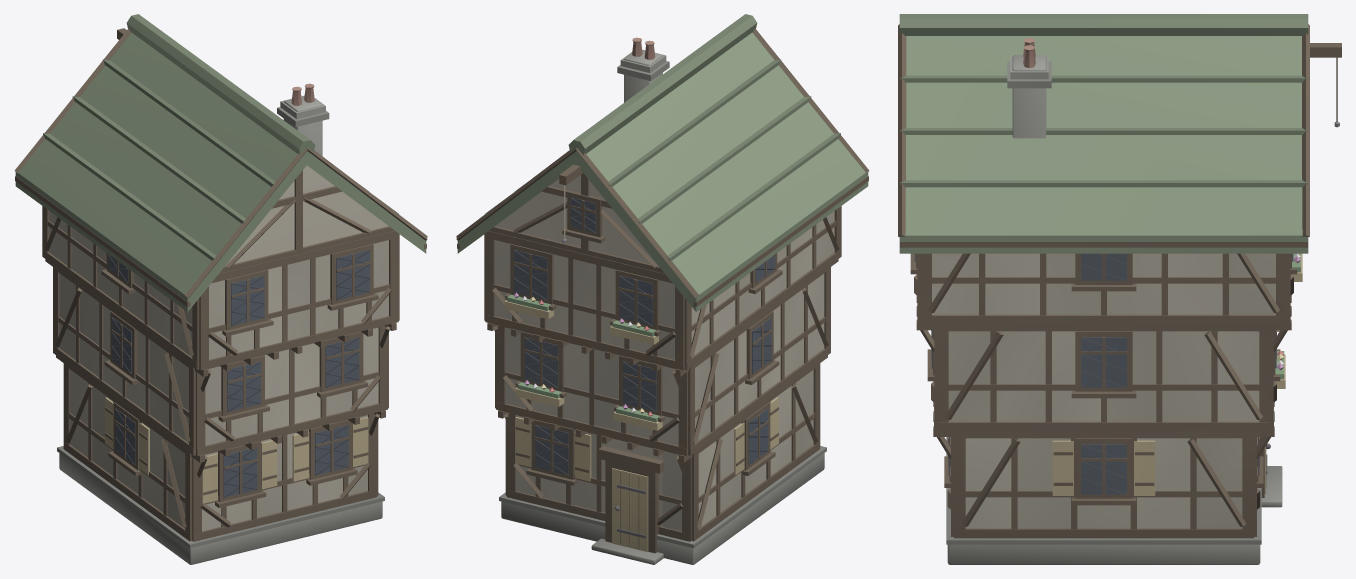
File: townhouse_green.gltf
3 views of the same model, side by side, from view 1: azimuth 30°, elevation 25°; view 2: azimuth 150°, elevation 25°; view 3: azimuth 270°, elevation 25° (orthographic). The views are drawn at different scales.
Parts seen in each view (by area): view 1: Body; view 2: Body; view 3: Body.
Part boxes in pixels (bbox=[...]): Body: bbox=[14, 14, 427, 564]; Body: bbox=[456, 14, 869, 564]; Body: bbox=[898, 14, 1341, 564].
Size of the model in its own units: 6.92 by 11.37 by 9.24.
